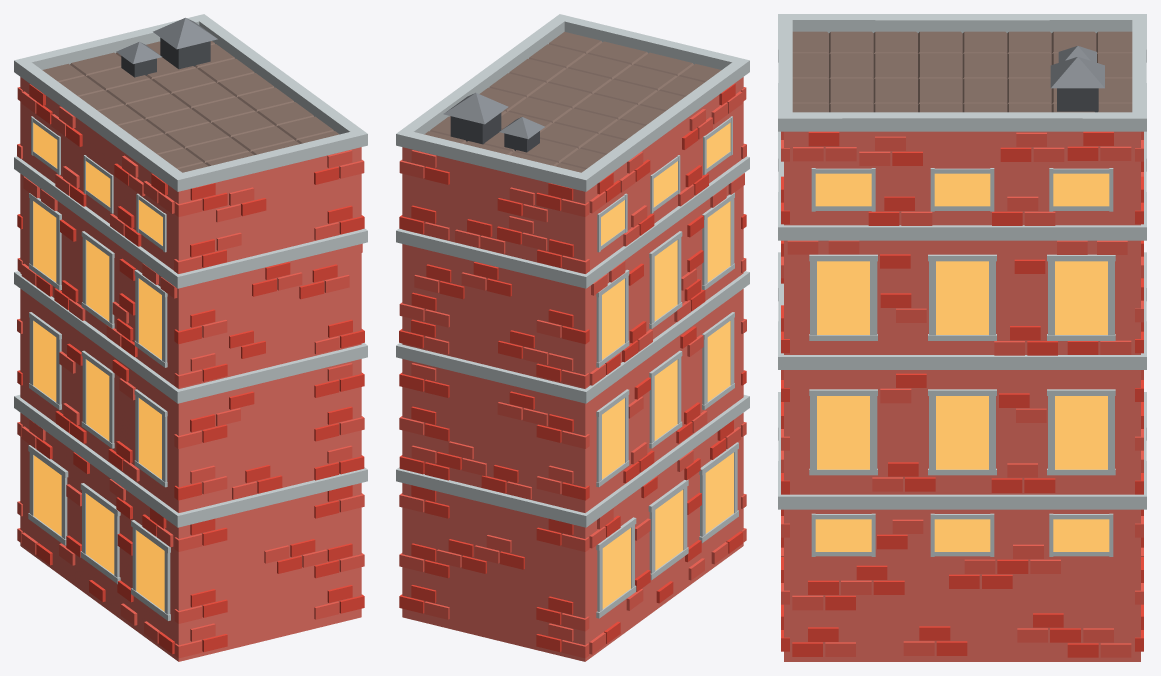
File: SM_House_14_B.fbx
The picture shows the model from 3 angles, left to right: view 1: azimuth 30°, elevation 25°; view 2: azimuth 150°, elevation 25°; view 3: azimuth 270°, elevation 25°; orthographic projection. The views are drawn at different scales.
Parts seen in each view (by area): view 1: SM_House_14_B_LOD0; view 2: SM_House_14_B_LOD0; view 3: SM_House_14_B_LOD0.
Boxes of the visible parts, left/top/right/bottom form: SM_House_14_B_LOD0: left=14, top=14, right=367, bottom=661; SM_House_14_B_LOD0: left=396, top=14, right=749, bottom=661; SM_House_14_B_LOD0: left=778, top=14, right=1146, bottom=661.
Bounding box in the file's own units: 416 × 620 × 1077.
Materials: 1 (1 with a texture image).
